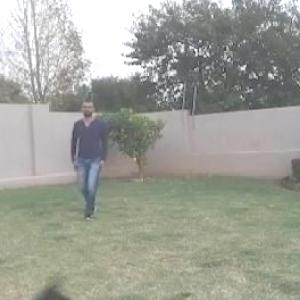follow: (69, 98, 109, 220)
